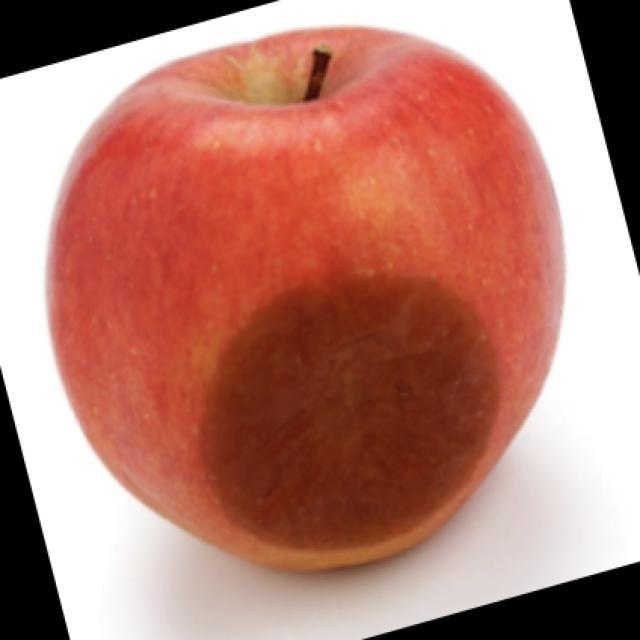Rotten: (40, 20, 572, 580)
